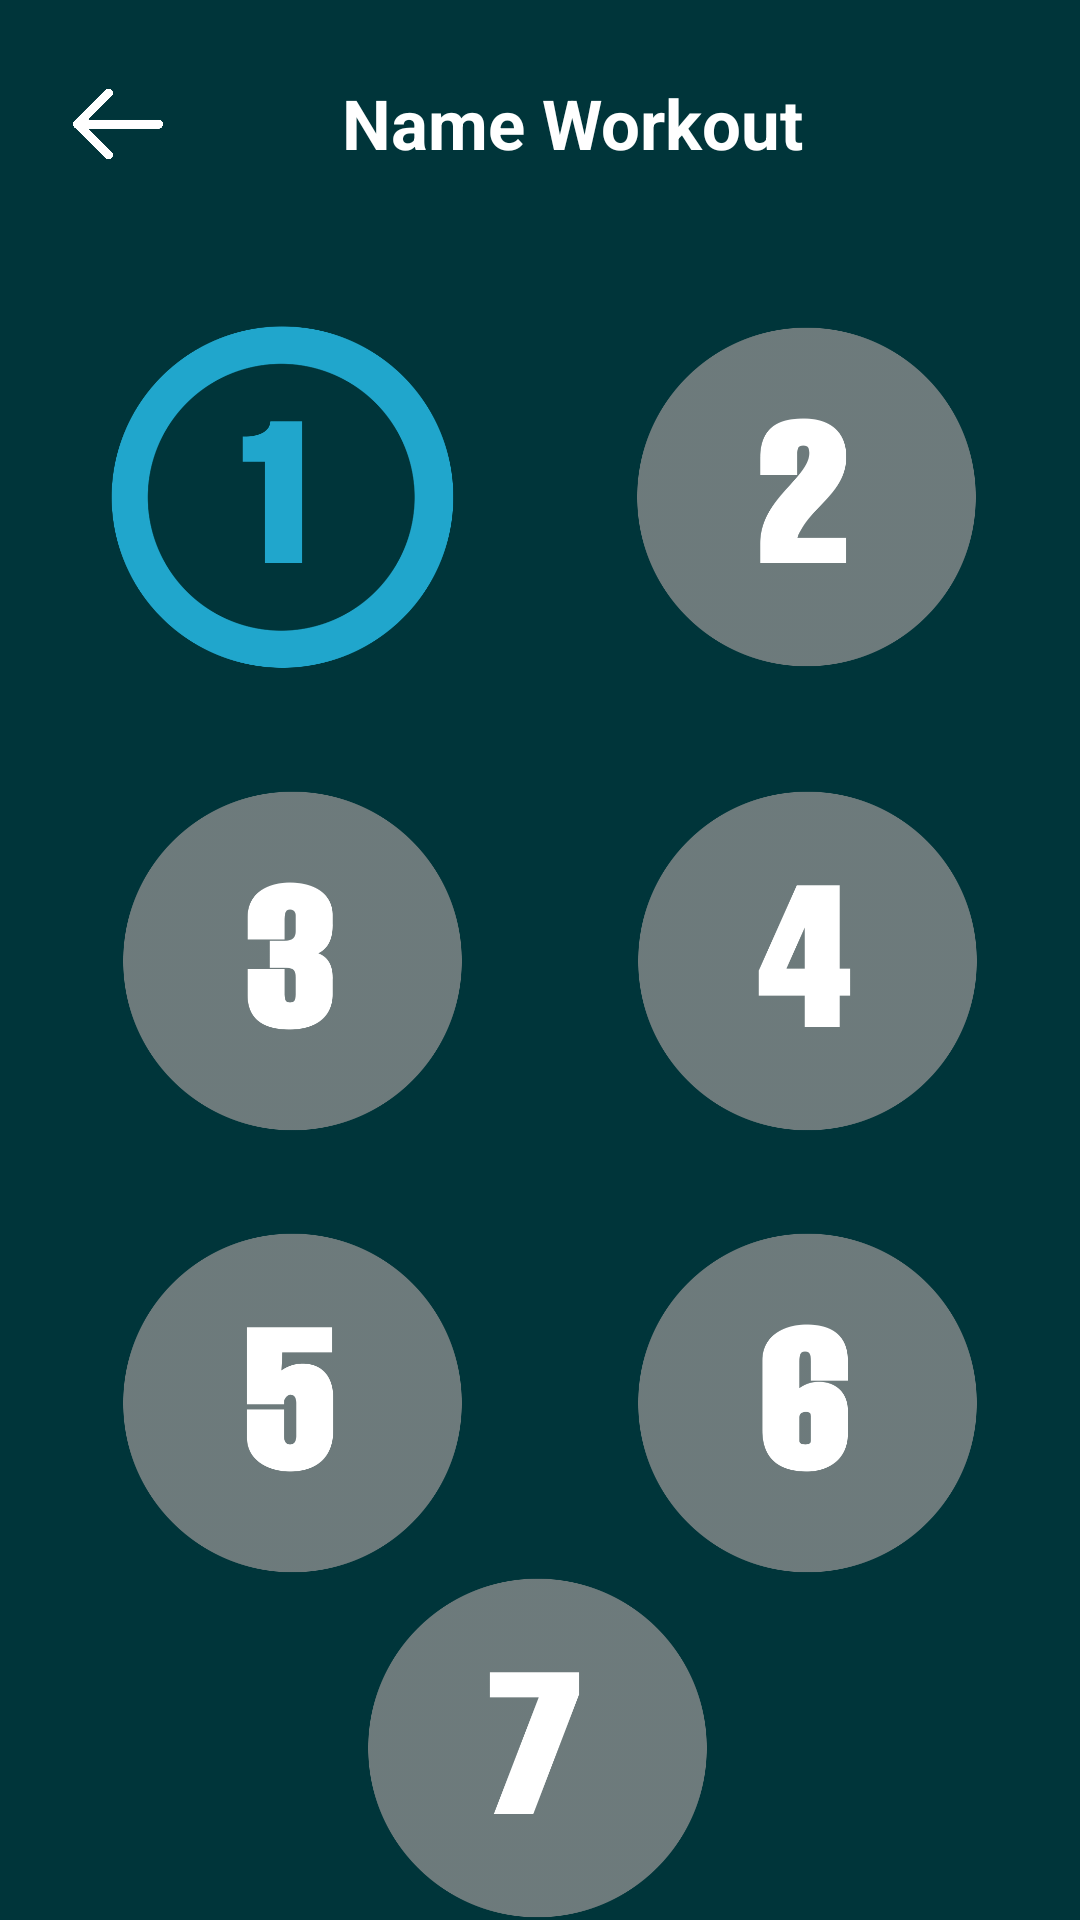

Named icons in this screenshot (1080px x 1920px) and their centers, (x,y):
backarrow: (118,124)
